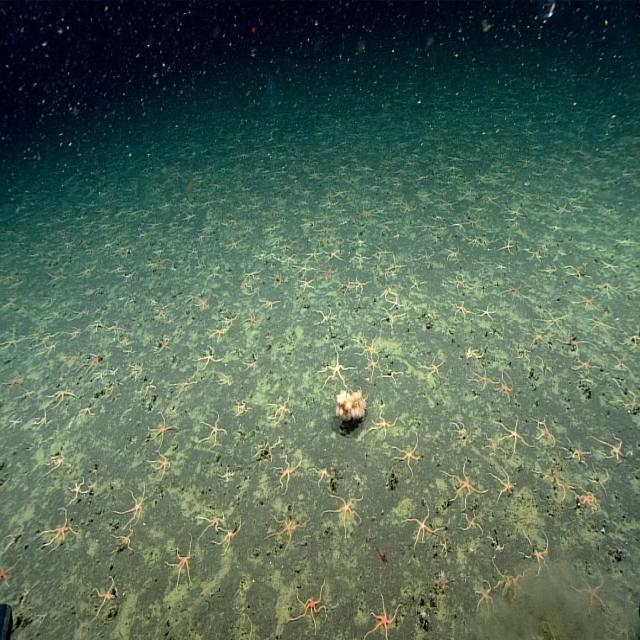brittle-stars: (292, 580, 328, 632), (43, 505, 80, 552), (570, 565, 606, 609), (326, 488, 361, 530), (268, 507, 301, 549), (368, 594, 398, 640), (519, 532, 551, 575), (493, 562, 527, 600), (321, 347, 351, 389), (171, 538, 195, 588), (406, 506, 435, 546), (448, 465, 480, 501), (393, 432, 421, 470), (212, 522, 242, 557), (92, 573, 118, 613), (500, 418, 527, 454), (595, 434, 627, 464), (120, 489, 145, 523), (148, 412, 175, 442), (539, 308, 569, 335), (562, 435, 589, 465), (491, 470, 517, 501), (66, 472, 88, 505), (269, 396, 294, 425), (474, 581, 494, 617), (372, 409, 395, 440), (202, 413, 224, 445), (199, 508, 224, 536), (279, 454, 300, 487), (150, 448, 173, 478), (48, 382, 76, 406), (0, 327, 22, 357), (44, 449, 68, 475), (115, 524, 134, 556), (575, 485, 596, 512), (170, 374, 198, 393), (471, 368, 493, 392), (3, 370, 24, 394), (565, 263, 590, 283), (425, 355, 444, 381), (497, 373, 515, 400), (588, 315, 611, 336), (485, 434, 505, 458), (598, 280, 622, 300), (504, 281, 525, 303), (360, 336, 380, 358), (68, 304, 88, 325), (453, 300, 471, 323), (35, 406, 49, 435), (381, 310, 402, 329), (530, 327, 548, 349), (574, 292, 597, 309), (575, 355, 595, 374), (200, 347, 218, 368), (243, 310, 260, 332), (462, 512, 480, 532), (478, 302, 496, 321), (466, 343, 484, 362), (352, 274, 369, 294), (233, 397, 250, 417), (468, 275, 484, 296), (448, 274, 466, 292), (7, 414, 23, 434), (500, 236, 515, 257), (208, 326, 227, 342), (364, 358, 382, 374), (299, 276, 317, 292), (408, 275, 424, 292), (224, 310, 240, 327), (353, 250, 369, 267), (157, 334, 172, 352), (281, 249, 296, 266), (389, 294, 403, 312), (297, 261, 312, 277), (465, 214, 479, 230), (554, 200, 568, 216), (324, 264, 337, 281), (196, 296, 208, 312), (440, 538, 451, 555), (418, 189, 431, 203), (354, 233, 366, 248), (308, 248, 320, 262), (318, 224, 330, 238), (119, 333, 130, 348), (495, 261, 507, 273)
